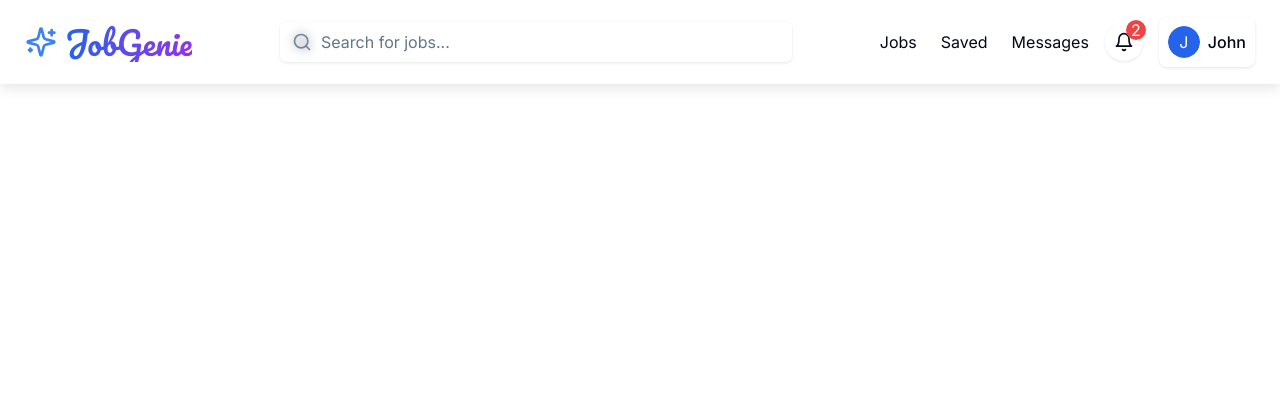
Scenario: Header Component › Authenticated State › opens profile dropdown when clicked
This screenshot has width=1280, height=399.
Click the text "John" at (1227, 42), box [1208, 30, 1246, 54]
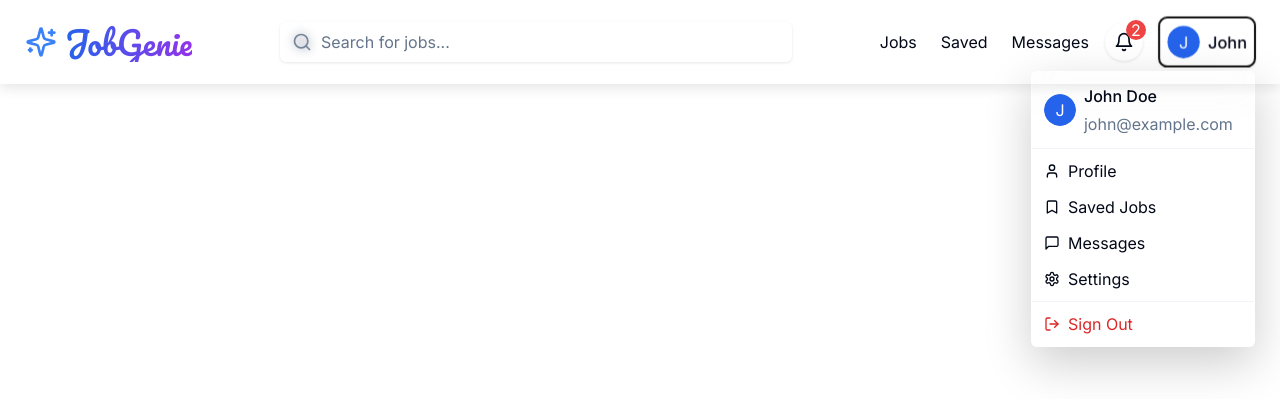
expect the text "john@example.com" is shown: met, box [1084, 112, 1233, 136]
expect the text "Profile" is shown: met, box [1044, 161, 1117, 181]
expect the text "Sign Out" is shown: met, box [1044, 314, 1133, 334]
